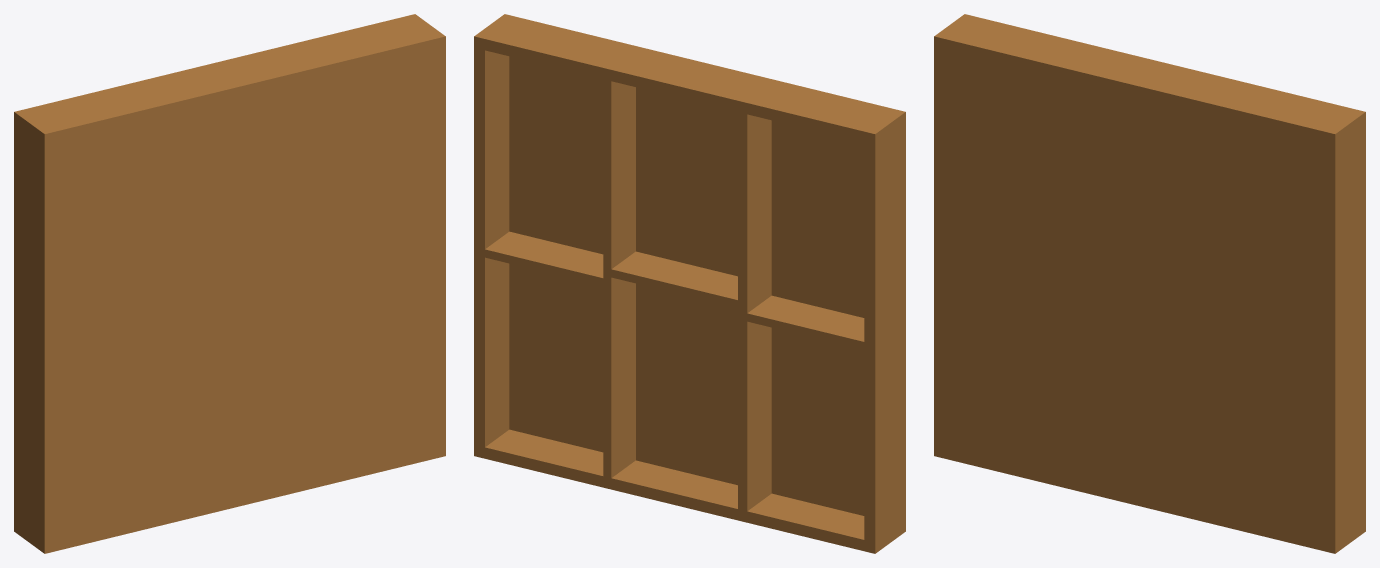
The picture shows the model from 3 angles, left to right: view 1: azimuth 30°, elevation 25°; view 2: azimuth 150°, elevation 25°; view 3: azimuth 330°, elevation 25°; orthographic projection.
Parts seen in each view (by area): view 1: I-6; view 2: I-6; view 3: I-6.
Part boxes in pixels (x1,y1,x2,y2): I-6: (14,14,445,553); I-6: (474,14,905,553); I-6: (934,14,1365,553).
Bounding box in the file's own units: 612 × 612 × 80.81.
